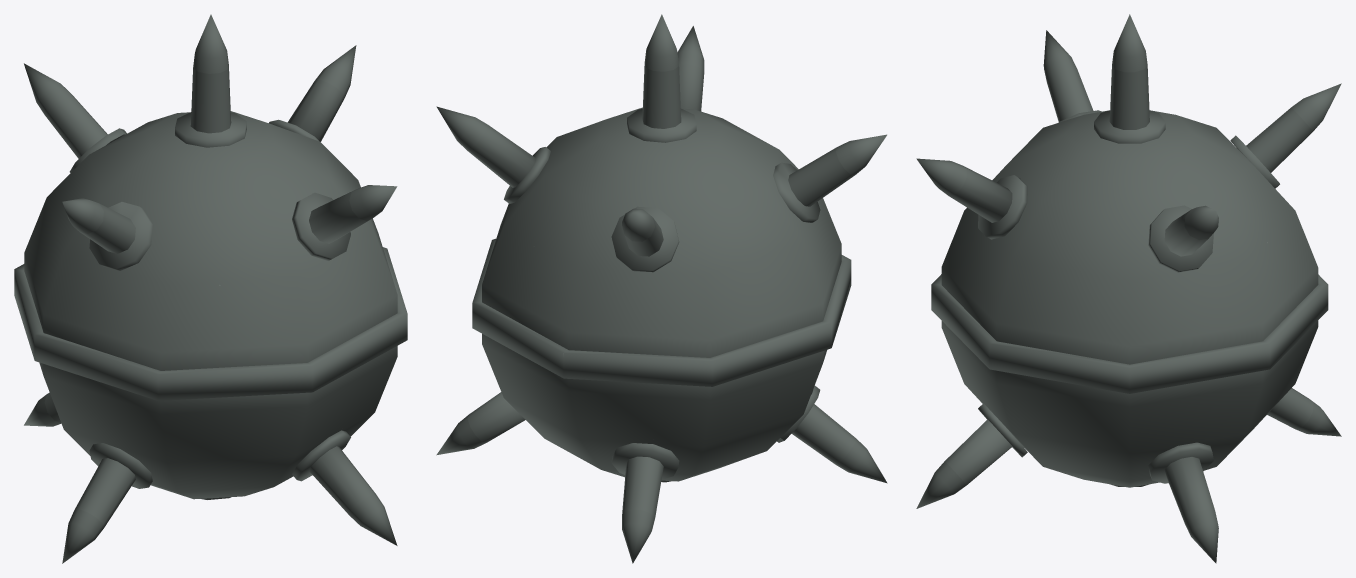
The model's file is MinaAquatica.fbx.
The picture shows the model from 3 angles, left to right: view 1: azimuth 30°, elevation 25°; view 2: azimuth 150°, elevation 25°; view 3: azimuth 270°, elevation 25°; orthographic projection. The views are drawn at different scales.
Parts seen in each view (by area): view 1: MinaAquatica; view 2: MinaAquatica; view 3: MinaAquatica.
Part boxes in pixels (x1=…): MinaAquatica: x1=14, y1=14, x2=407, y2=563; MinaAquatica: x1=436, y1=14, x2=887, y2=563; MinaAquatica: x1=916, y1=14, x2=1341, y2=563.
Size of the model in its own units: 721 by 852 by 715.
